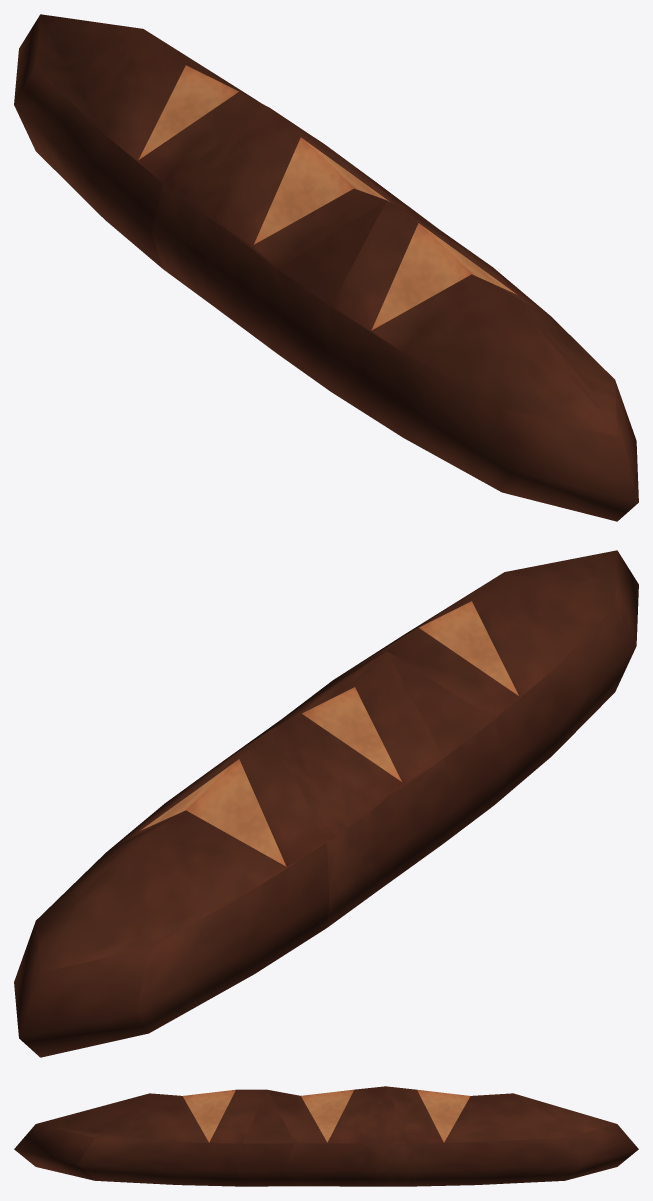
File: Baguette_A_2.FBX
3 renders of one model, top to bottom at view 1: azimuth 30°, elevation 25°; view 2: azimuth 150°, elevation 25°; view 3: azimuth 270°, elevation 25°, orthographic. The views are drawn at different scales.
Visible parts, largest first — view 1: Baguette; view 2: Baguette; view 3: Baguette.
Boxes of the visible parts, box(x1,y1,x2,y2) form: Baguette: box(14, 14, 638, 521); Baguette: box(14, 550, 638, 1057); Baguette: box(14, 1086, 638, 1186).
Size of the model in its own units: 40.44 by 35.05 by 246.
